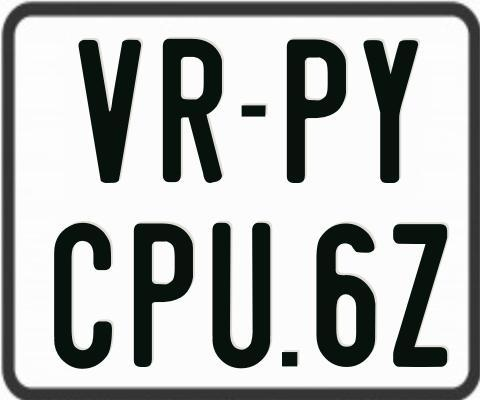6: (314, 222, 378, 369)
C: (54, 221, 114, 369)
P: (284, 38, 345, 188), (134, 223, 197, 368)
R: (160, 39, 223, 189)
U: (211, 222, 272, 373)
V: (77, 38, 144, 183)
Y: (363, 37, 421, 181)
Z: (390, 223, 448, 369)
